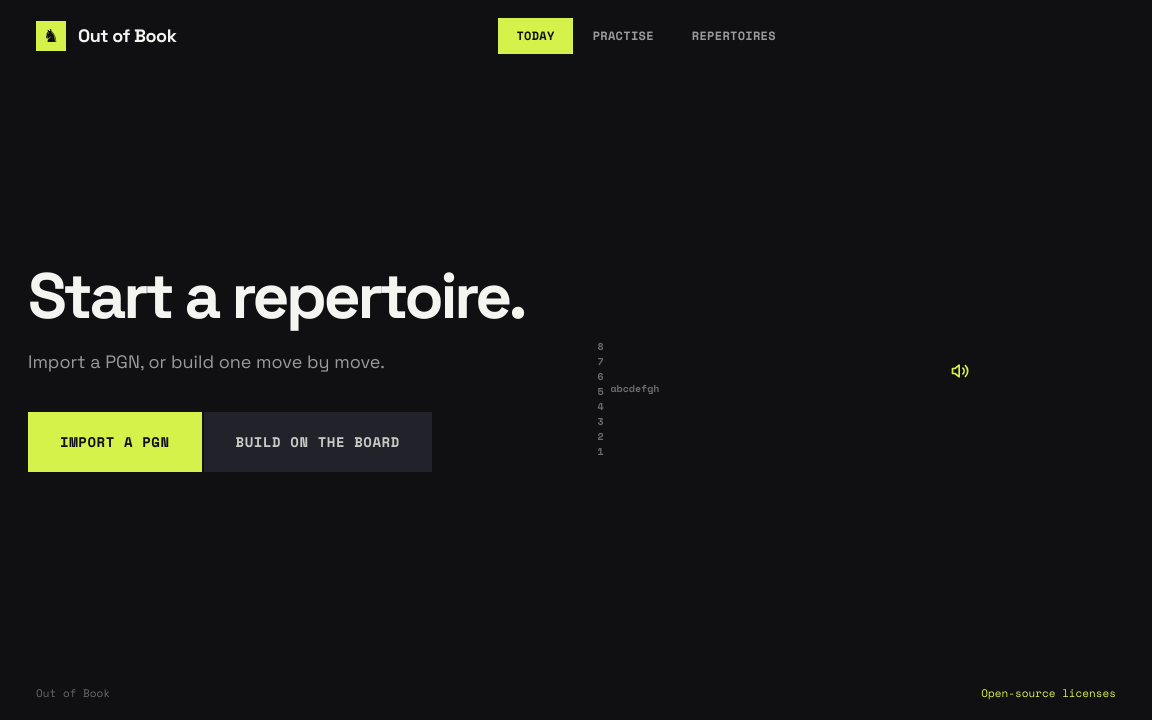
Test case: SparringApp › renames a repertoire and keeps the change after leaving the editor
Click the button "Import a PGN": click(115, 442) [28,412,202,472]
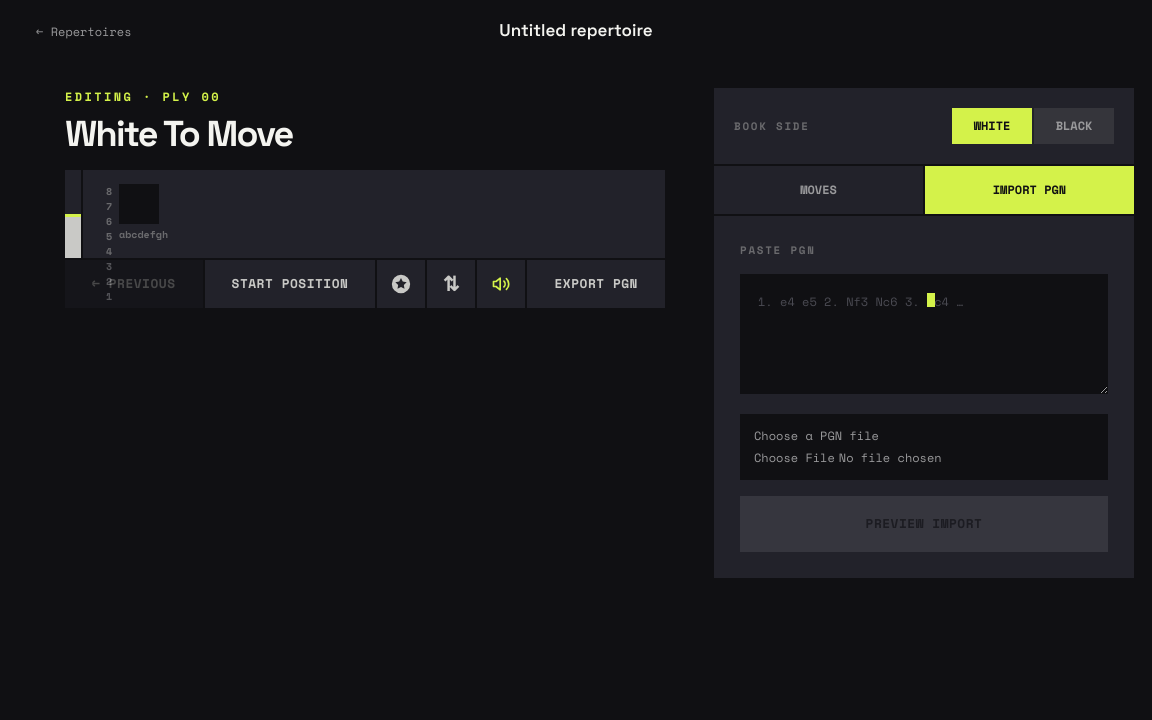
In the text box named "PGN text": (924, 334) [740,274,1108,394], type "1. e4 e5 2. Nf3 Nc6 3. Bb5 a6 *"
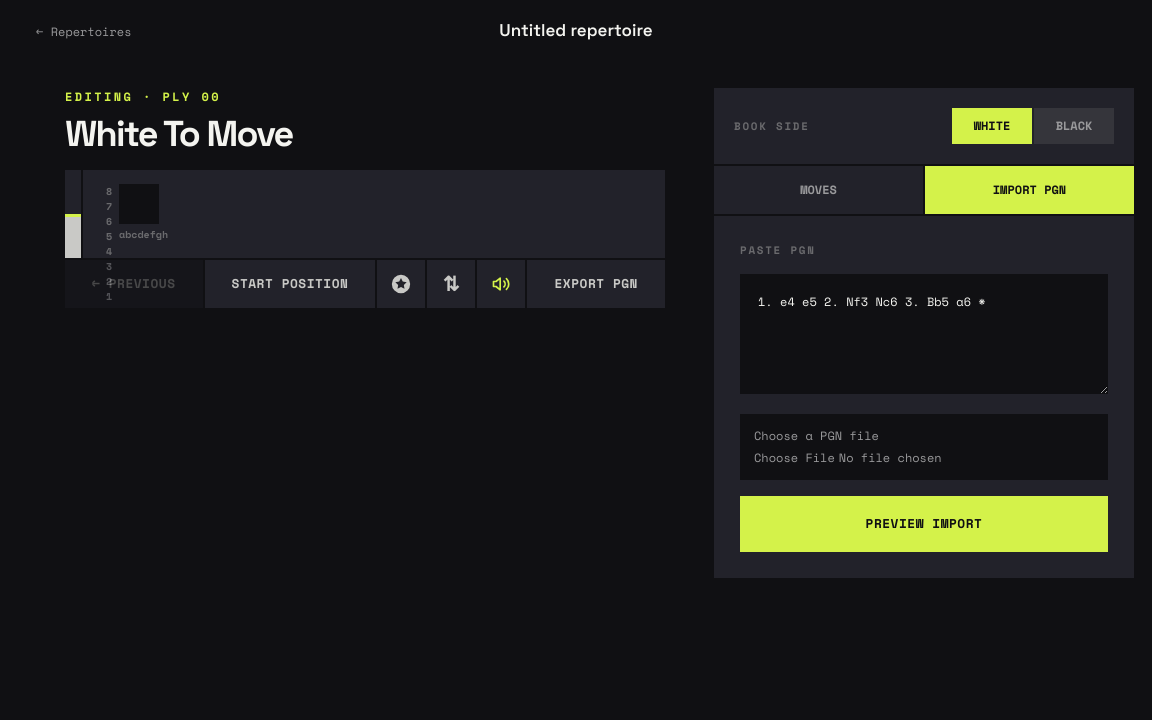
Click the button "Preview import": click(924, 524) [740,496,1108,552]
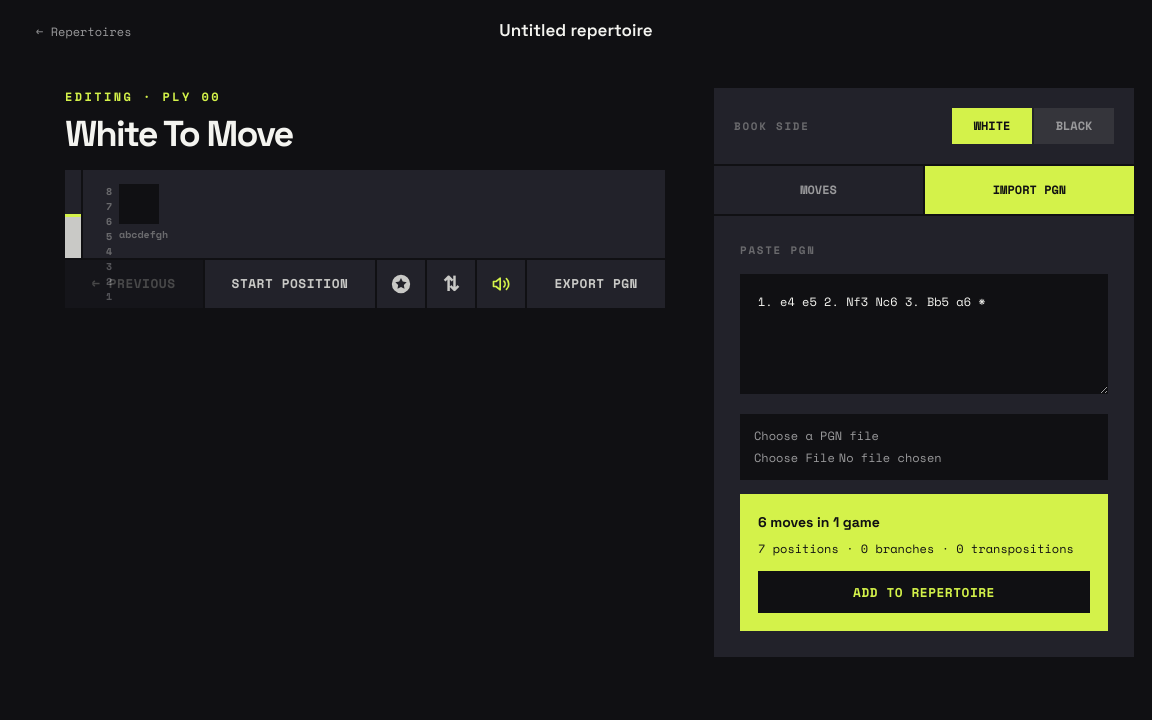
Click the button "Add to repertoire": click(924, 592) [758,571,1090,613]
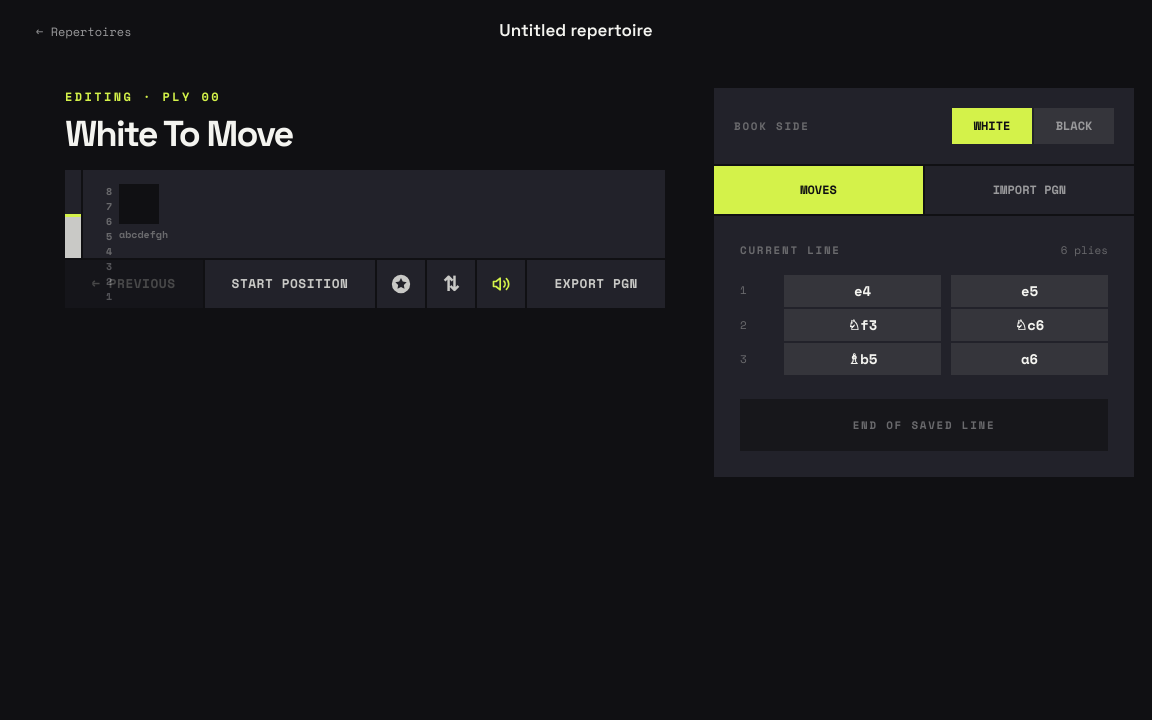
Expected: the element named "Repertoire move list" is shown, [740,274,1108,375]
Replace the text in the field named "Repertoire name" with "Ruy Lopez": (576, 32) [356,14,796,50]
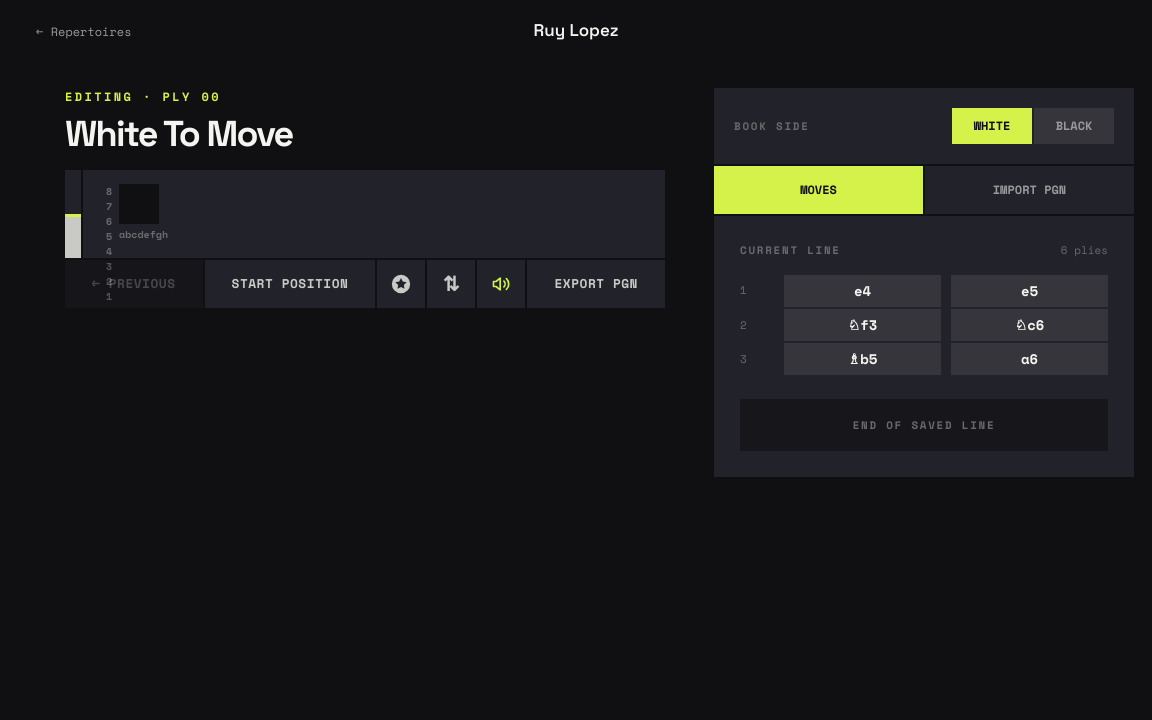
Click the button "← Repertoires": click(84, 32) [36,24,132,40]
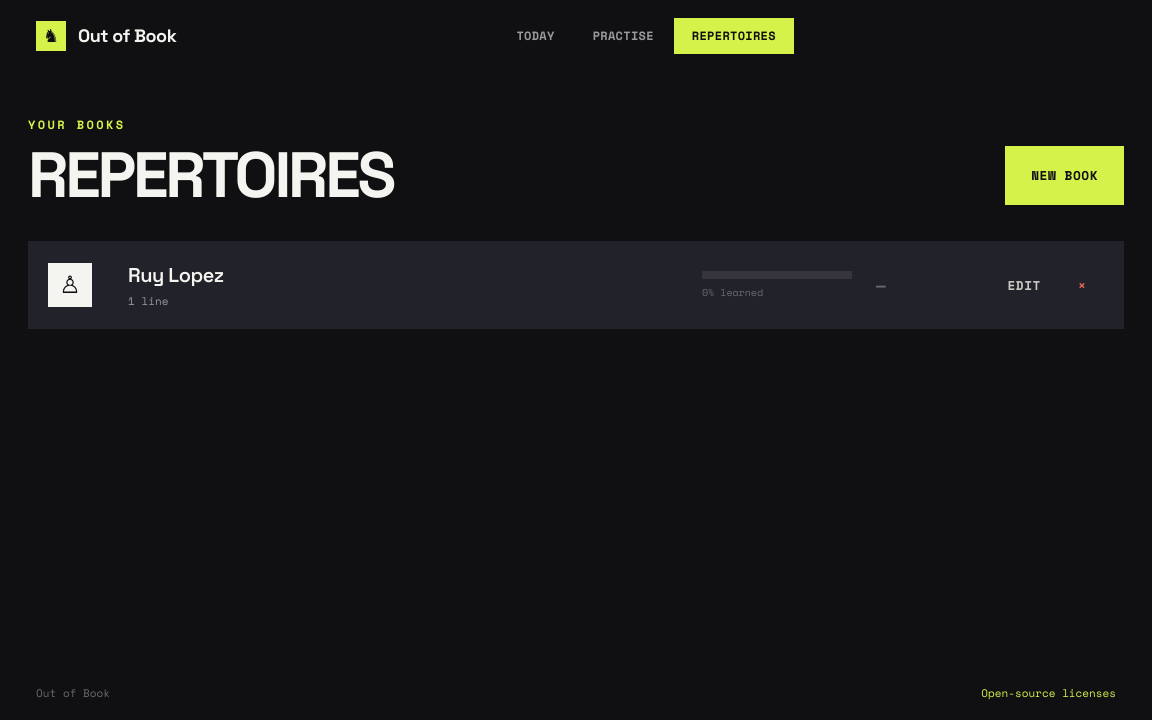
Expected: the text "Ruy Lopez" is shown, [128,262,224,288]
